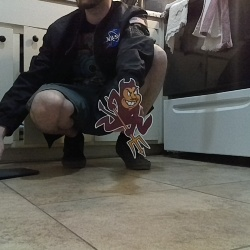sparky: (94, 77, 154, 161)
